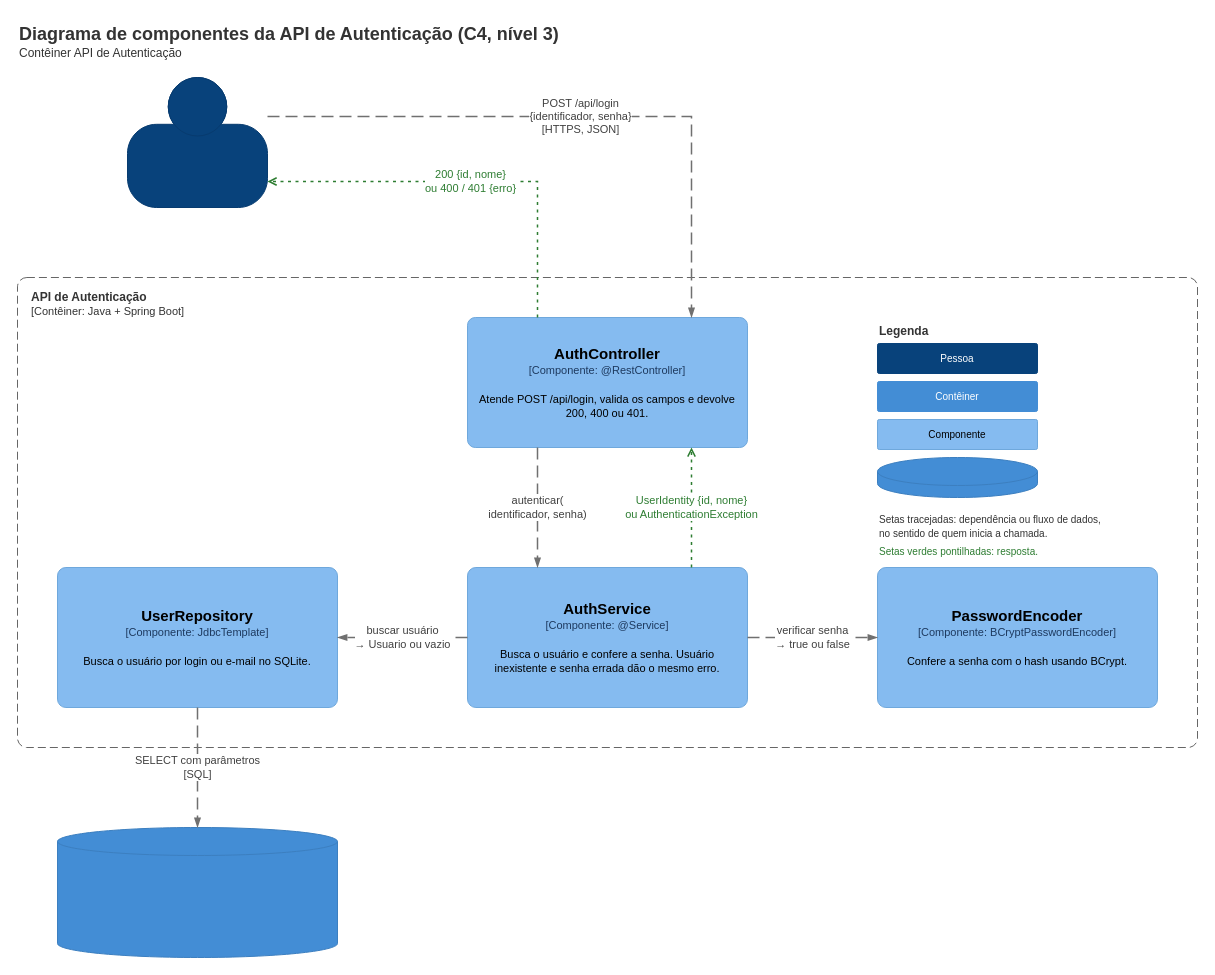
Image size: 1215x975. Some labels were removed from this diagram. The shapes that lost their labels are listed below. From the top down, each one's centre as x and y in pixels, then its label:
the point at 197,142: Usuário [Pessoa]
the point at 957,477: Banco de dados
the point at 197,892: Banco de Dados [Contêiner: SQLite] Tabela usuario.
